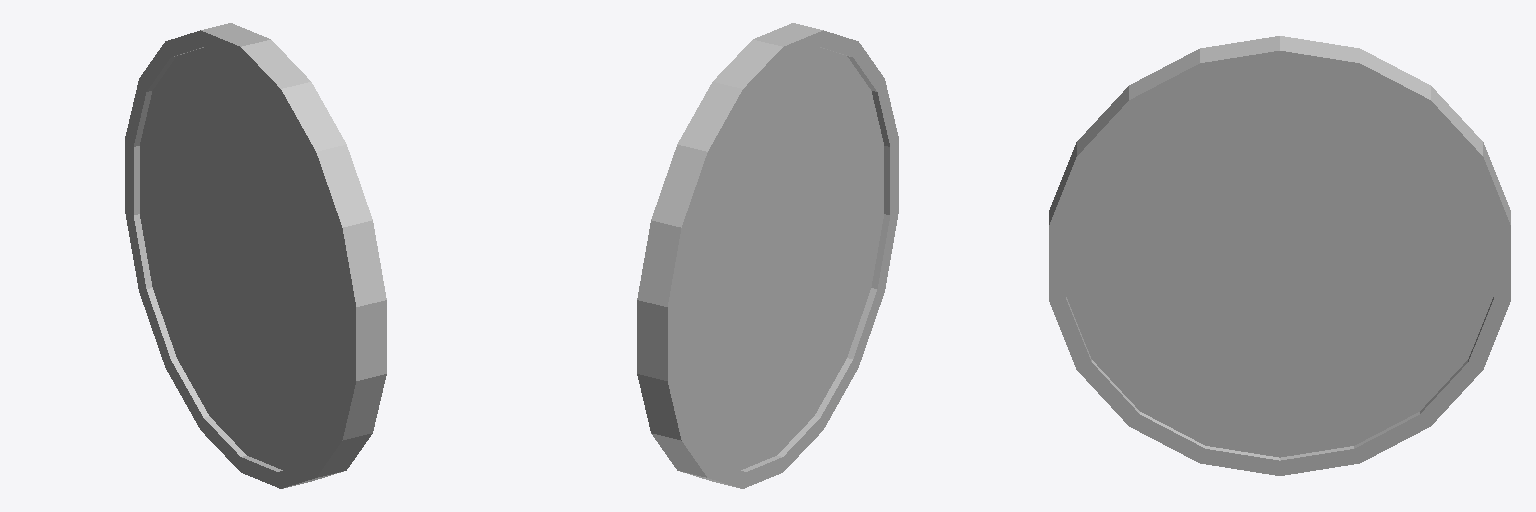
The model's file is Gold.obj.
3 renders of one model, left to right at view 1: azimuth 30°, elevation 25°; view 2: azimuth 150°, elevation 25°; view 3: azimuth 270°, elevation 25°, orthographic.
Parts seen in each view (by area): view 1: Cylinder001_Cylinder001; view 2: Cylinder001_Cylinder001; view 3: Cylinder001_Cylinder001.
Boxes of the visible parts, x1,y1,x2,y2 form: Cylinder001_Cylinder001: [125, 23, 386, 488]; Cylinder001_Cylinder001: [637, 23, 898, 488]; Cylinder001_Cylinder001: [1049, 36, 1510, 475].
Bounding box in the file's own units: 6 × 80 × 78.78.